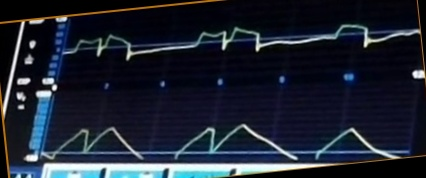Double_Triggering Flow: (68, 23, 298, 70)
Double_Triggering Volume: (45, 120, 300, 160)
